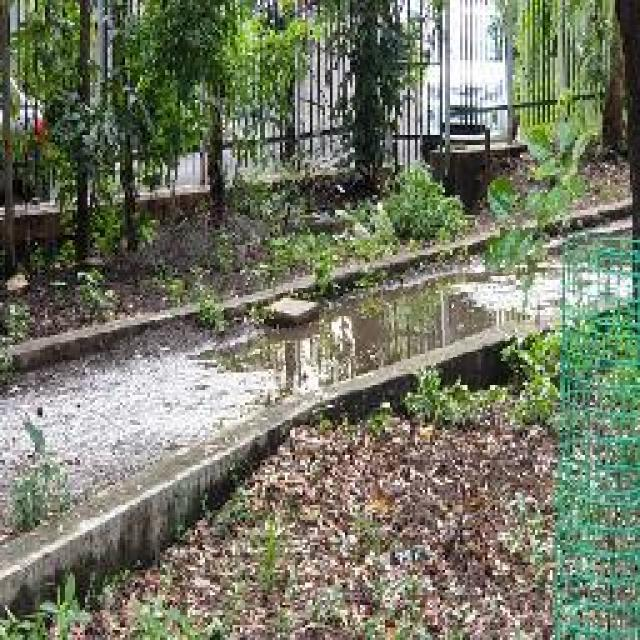puddle: (217, 274, 520, 389)
